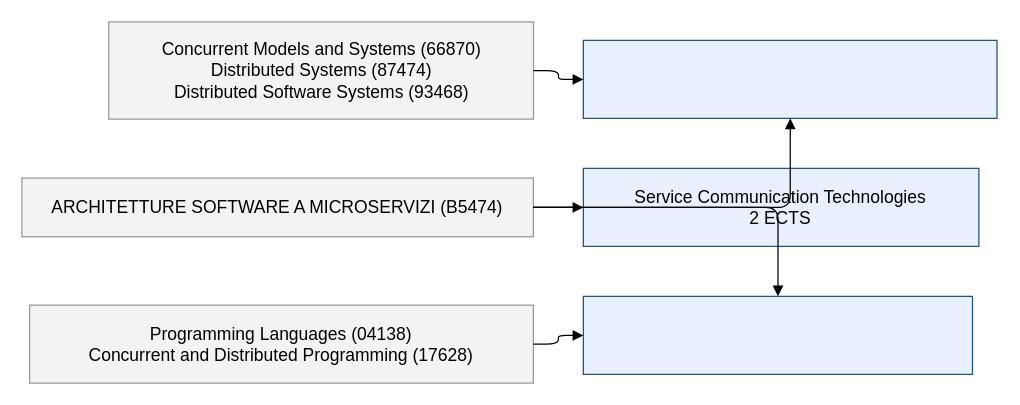
This 1020x405 diagram has some shape labels left out. The box of each missing label's shape, as (x1, y1, x2, y2) in pixels:
Jolie Service-Oriented Programming 2 ECTS: (582, 295, 972, 374)
Service-Oriented Systems Foundations 2 ECTS: (582, 39, 997, 118)
